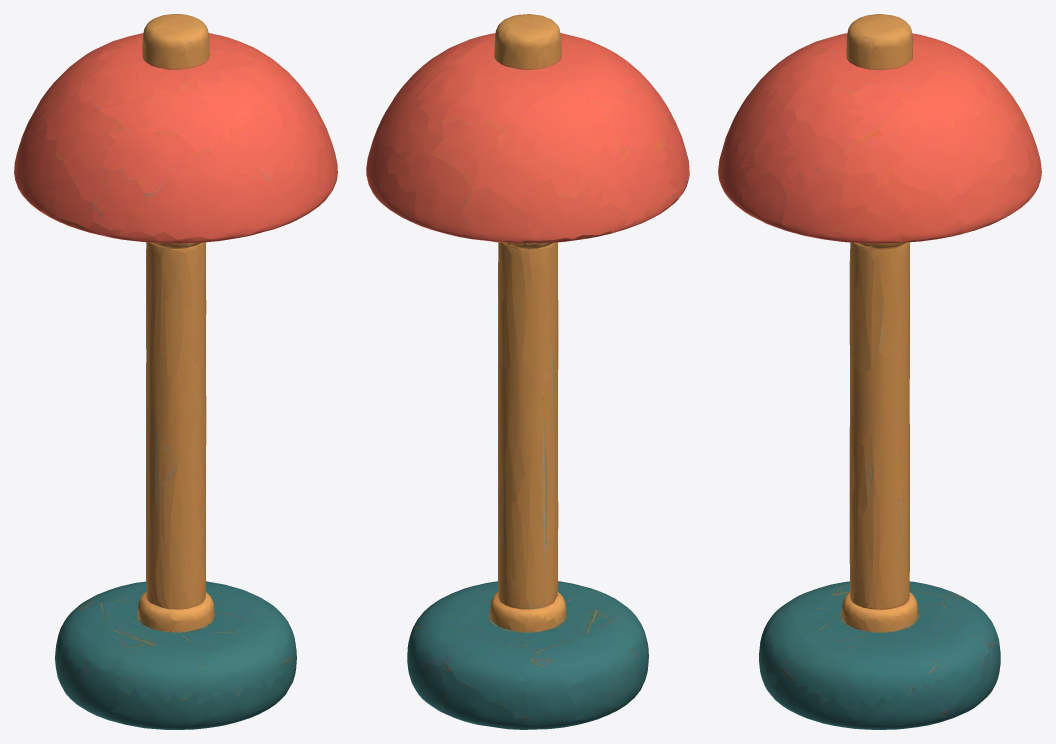
File: floorLamp.glb
3 views of the same model, side by side, from view 1: azimuth 30°, elevation 25°; view 2: azimuth 150°, elevation 25°; view 3: azimuth 270°, elevation 25° (orthographic).
Parts seen in each view (by area): view 1: Mesh_0; view 2: Mesh_0; view 3: Mesh_0.
Boxes of the visible parts, x1,y1,x2,y2 form: Mesh_0: (14,14,337,729); Mesh_0: (366,14,689,729); Mesh_0: (718,14,1041,729).
Bounding box in the file's own units: 0.6499 × 1.47 × 0.6499.
1 material, 1 textured.
